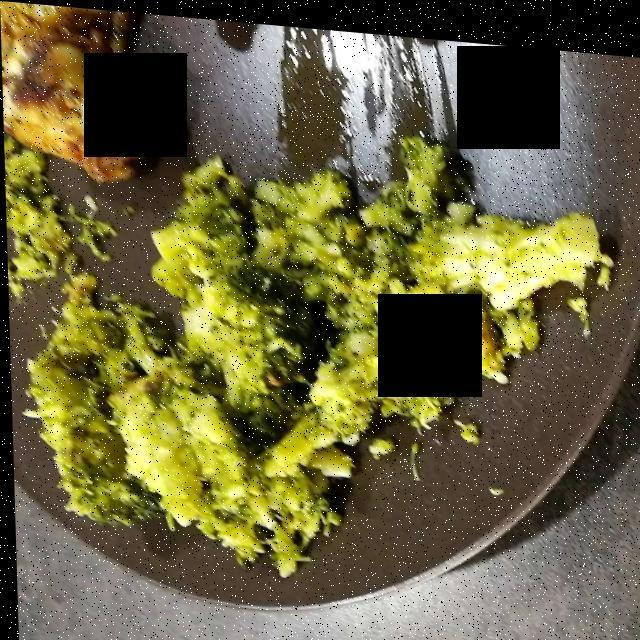broccoli: (38, 132, 612, 557)
